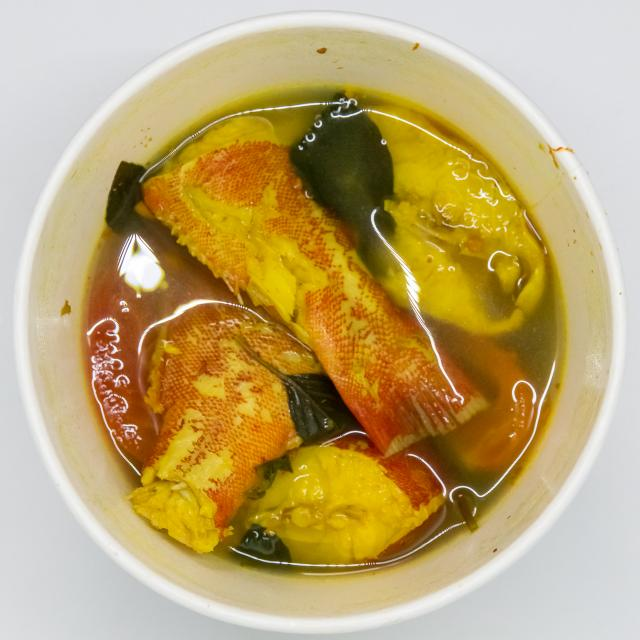Gulai-Ikan-Mas: (107, 73, 559, 584)
